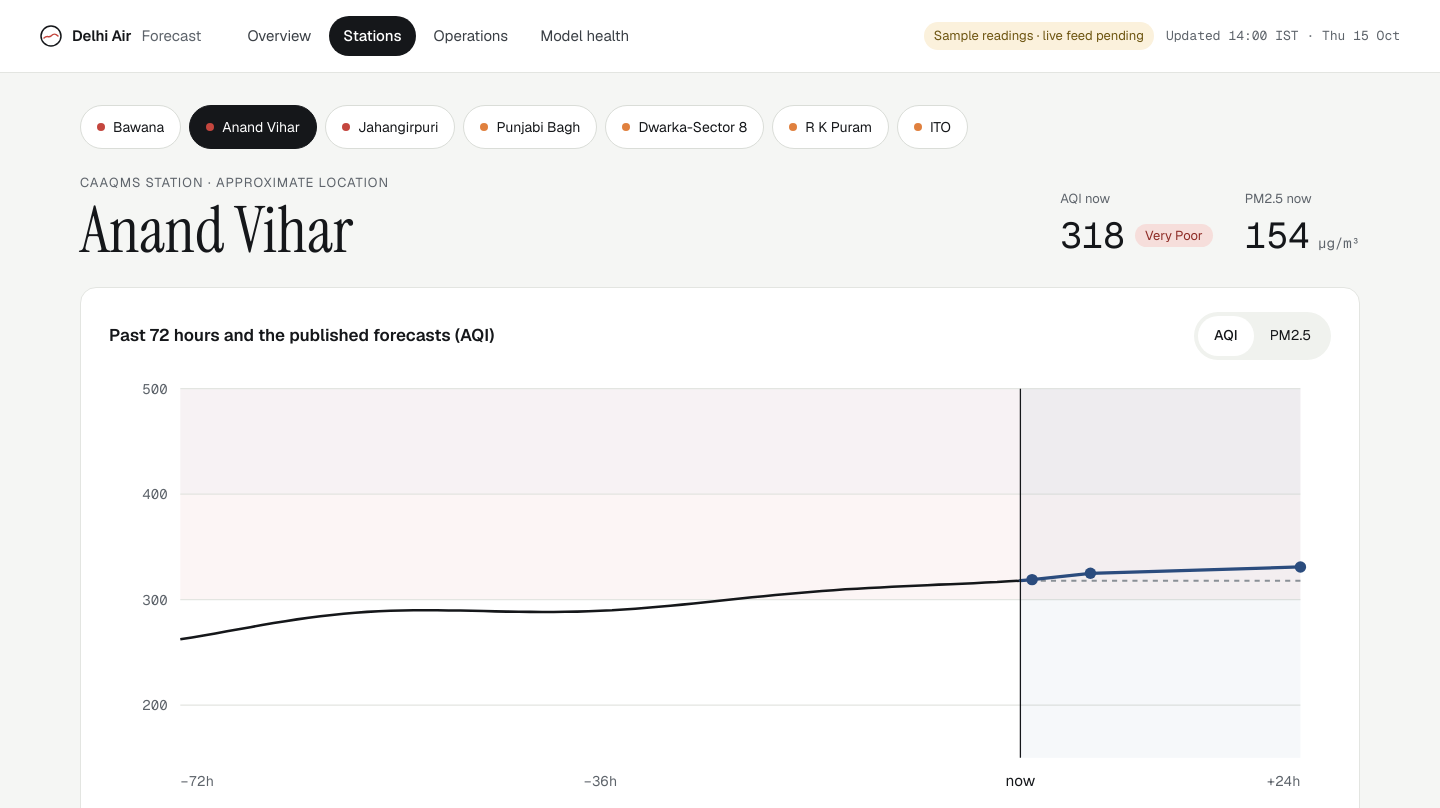
Test: Stations › withholds the 24h PM2.5 forecast and says why
What coordinates should you click on to do the following:
click the button "PM2.5"
I would click on:
 (1290, 336)
Its box is x1=1254 y1=316 x2=1327 y2=356.
(page scrolled)
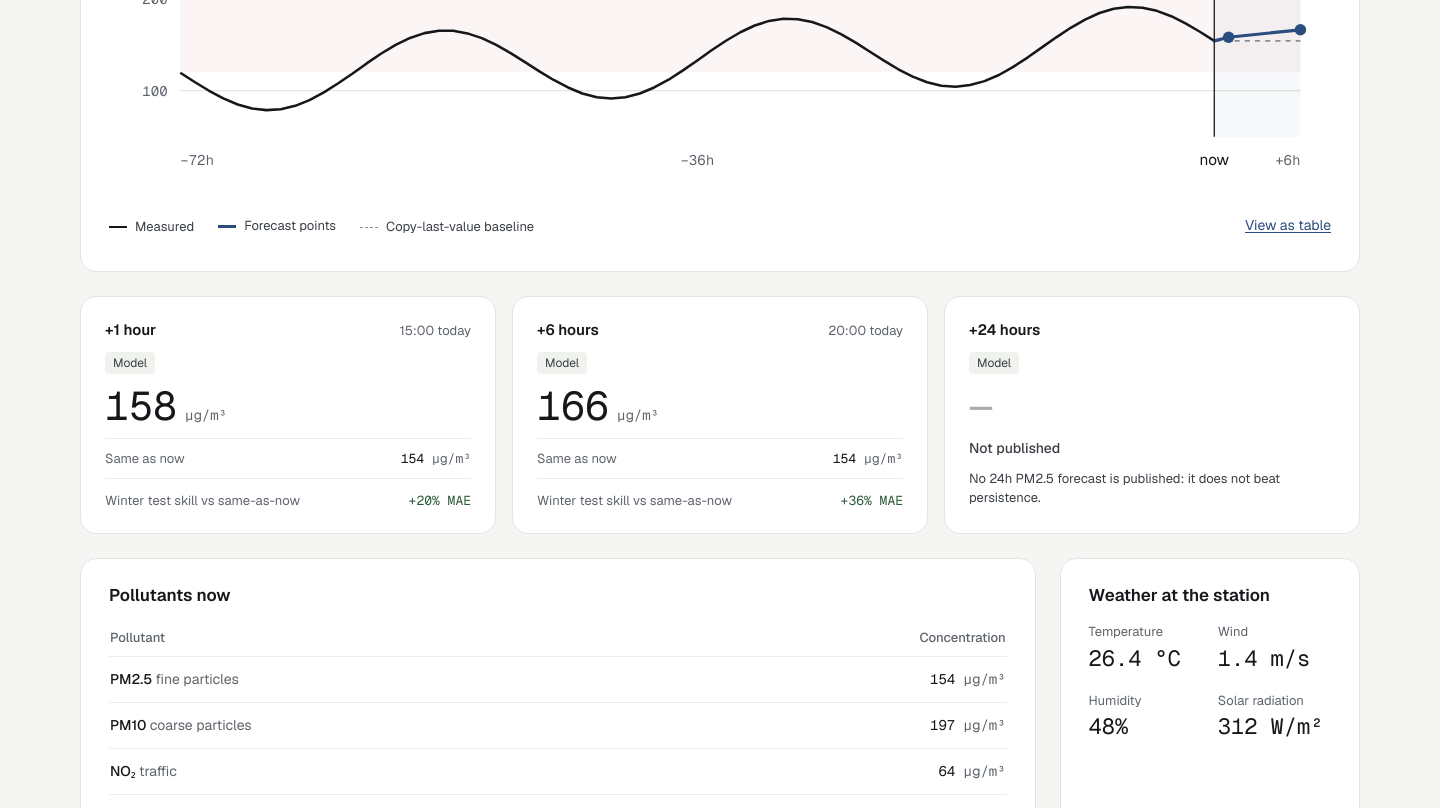
Check: the text "No 24h PM2.5 forecast is published" is shown, box x1=969 y1=470 x2=1280 y2=506
Check: the text "Not published" is shown, box x1=969 y1=439 x2=1060 y2=457
Check: the text "158" is shown, box x1=105 y1=380 x2=177 y2=432
